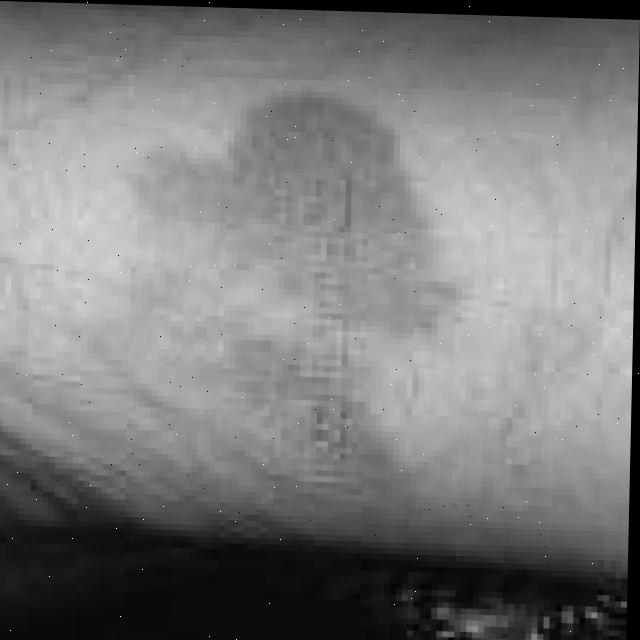Melasma: (91, 80, 452, 523)
